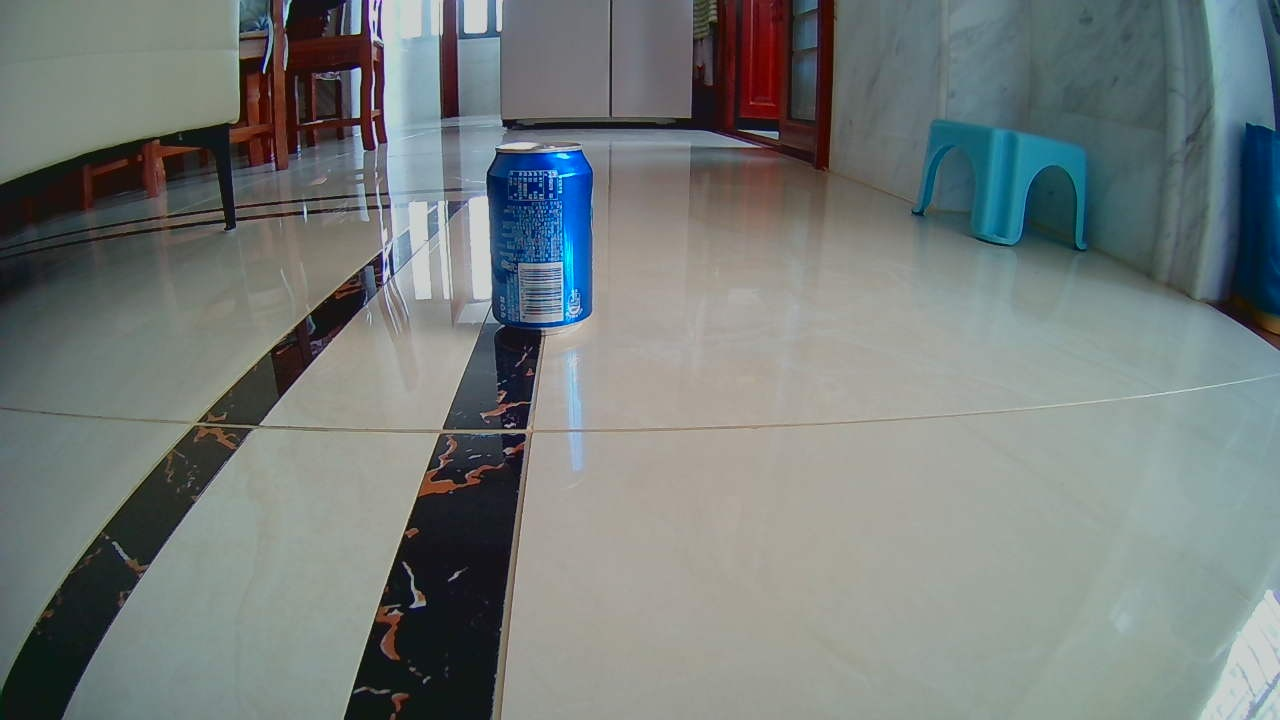pessi: (487, 142, 592, 326)
